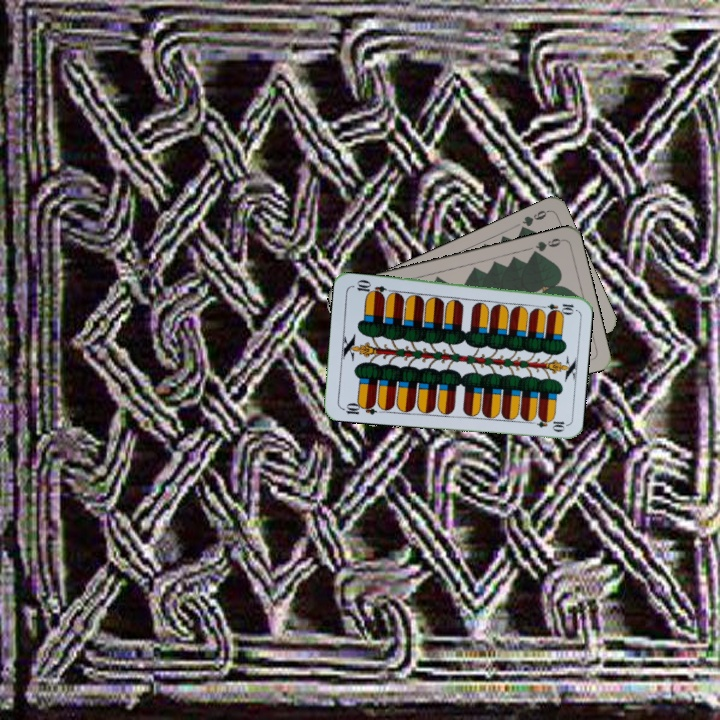E10: (338, 398, 379, 417), (536, 299, 576, 314)
G9: (516, 206, 551, 235), (527, 234, 565, 258)
